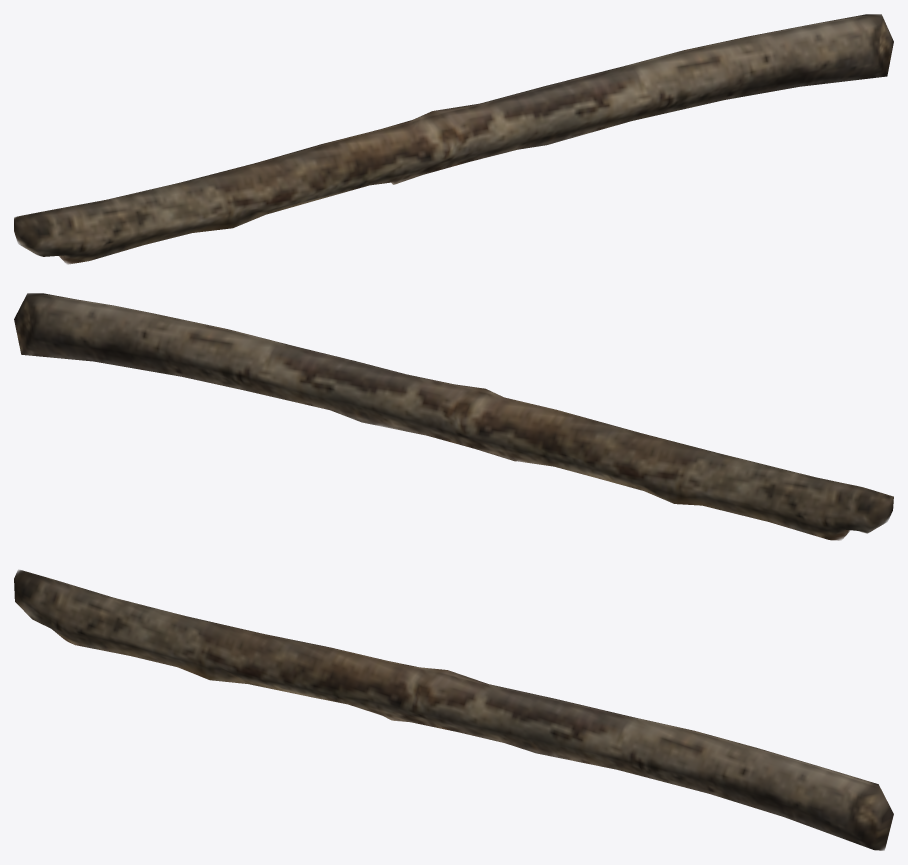
Rendered from tree_debris_01.glb.
3 renders of one model, top to bottom at view 1: azimuth 30°, elevation 25°; view 2: azimuth 150°, elevation 25°; view 3: azimuth 330°, elevation 25°, orthographic.
Visible parts, largest first — view 1: Object_2; view 2: Object_2; view 3: Object_2.
Part boxes in pixels (x1,y1,x2,y2): Object_2: [14, 14, 893, 264]; Object_2: [14, 293, 893, 540]; Object_2: [14, 570, 893, 850].
Size of the model in its own units: 0.9837 by 0.0777 by 0.0607.
Materials: 1 (1 with a texture image).
